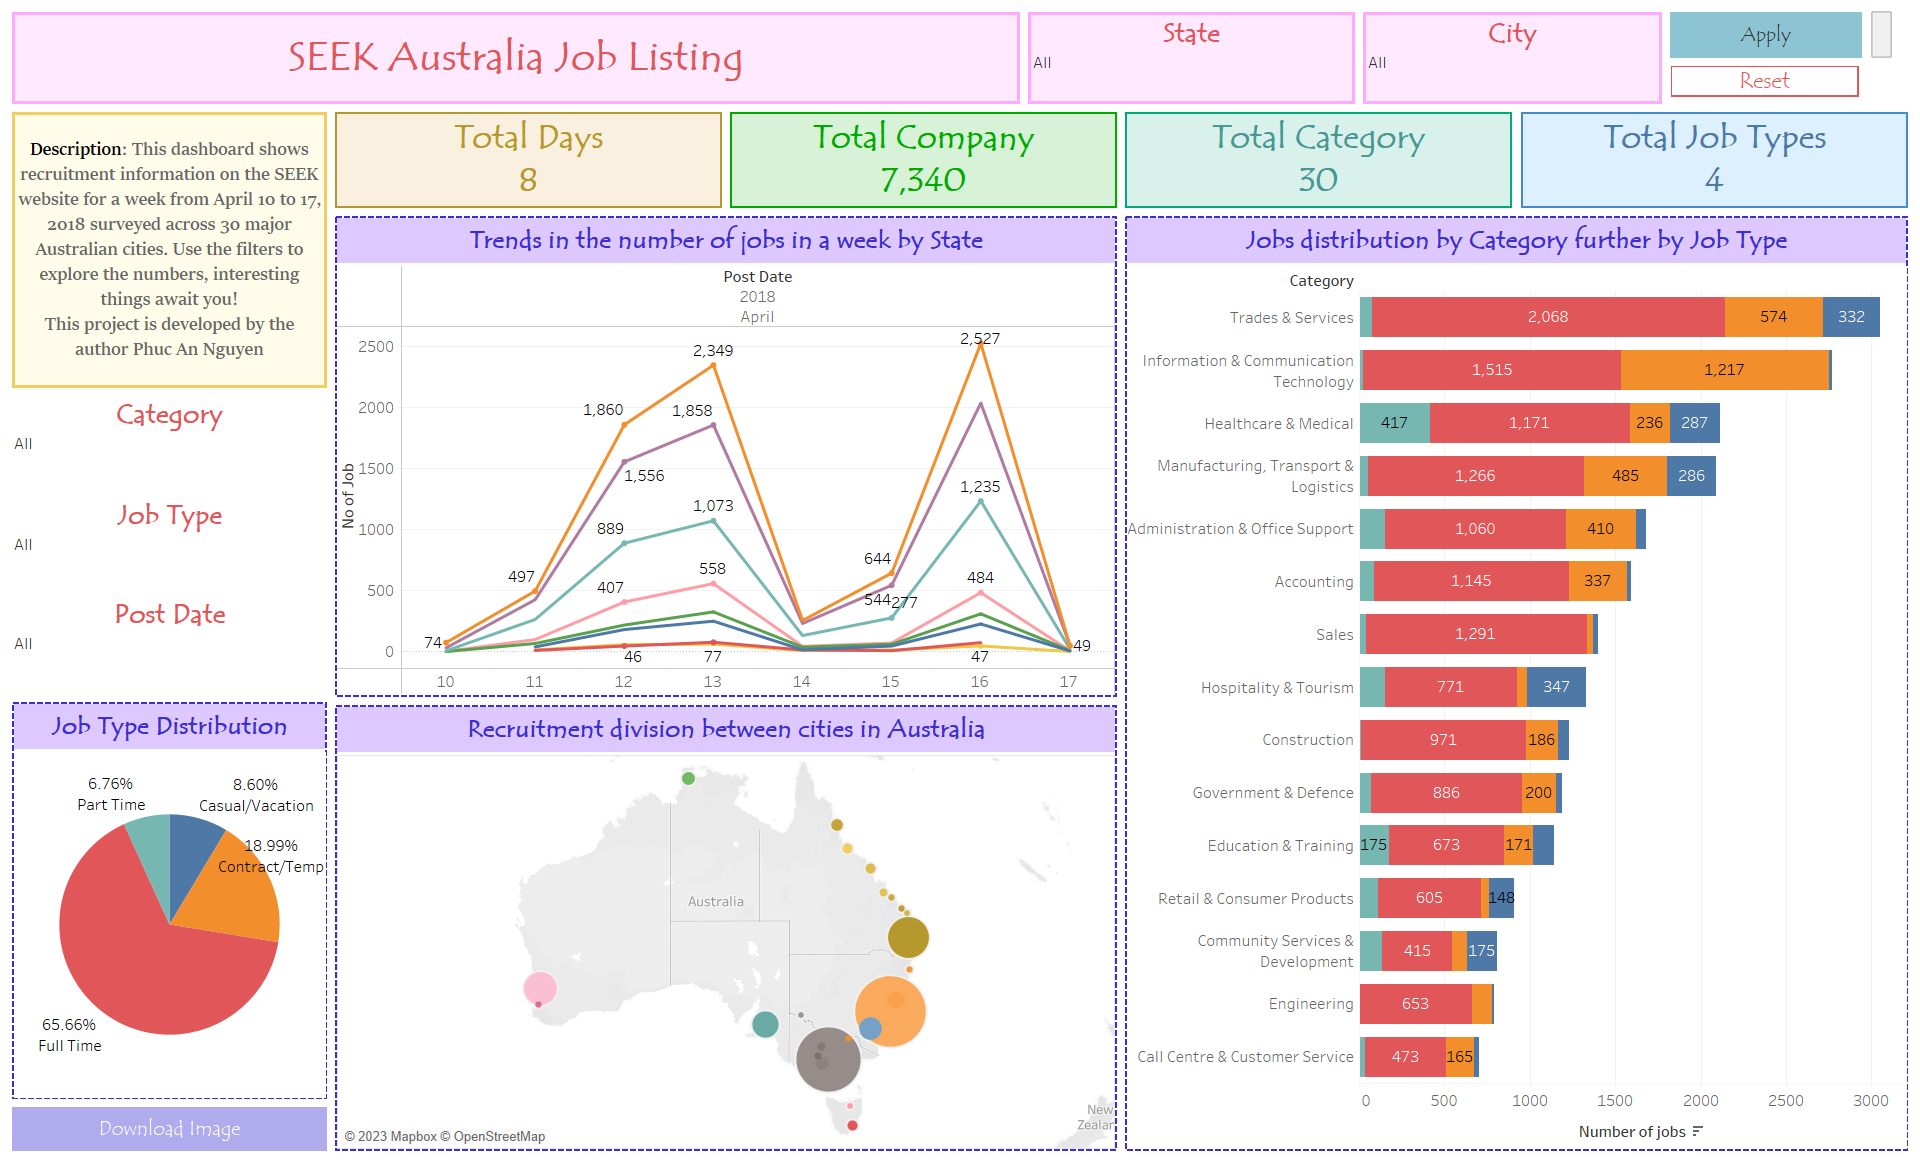

The dashboard page shown, as its layout file describes it:
{"tool":"tableau","page":{"name":"SEEK Dashboard v3","canvas":[1000,1000],"units":"permille","ordinal":0},"visuals":[{"type":"text","box":[4.8,8.2,528.8,86.6]},{"type":"filter","title":"Filter State Button","param":"[federated.0r6clld07ji2f117cddo414tgxxp].[none:state:nk]","box":[533.7,8.2,174.3,86.6]},{"type":"filter","title":"Filter State Button","param":"[federated.0r6clld07ji2f117cddo414tgxxp].[none:city:nk]","box":[708,8.2,159.6,86.6]},{"type":"worksheet","title":"Filter State Button","mark":"Polygon","rows":["Calculation_1911496635361103873"],"box":[867.6,8.2,127.6,45.8]},{"type":"worksheet","title":"Reset Button","mark":"Automatic","box":[867.6,54.1,127.6,40.8]},{"type":"text","box":[4.8,94.9,168.5,345]},{"type":"worksheet","title":"Pie Chart","mark":"Pie","box":[173.4,94.9,249,390.5]},{"type":"blank","box":[422.4,94.9,111.1,31.4]},{"type":"worksheet","title":"Stacked Bar Chart","mark":"Automatic","rows":["category"],"cols":["seek.csv_3BF47F59CC414110A04E427FBBB8EA2F"],"box":[533.5,94.9,461.7,390.5]},{"type":"filter","title":"Stacked Bar Chart","param":"[federated.0r6clld07ji2f117cddo414tgxxp].[none:job_type:nk]","box":[422.4,126.2,111.1,86.3]},{"type":"filter","title":"Stacked Bar Chart","param":"[federated.0r6clld07ji2f117cddo414tgxxp].[none:category:nk]","box":[422.4,212.5,111.1,90.9]},{"type":"filter","title":"Line chart","param":"[federated.0r6clld07ji2f117cddo414tgxxp].[dy:post_date:ok]","box":[422.4,303.3,111.1,90.9]},{"type":"blank","box":[422.4,394.3,111.1,91]},{"type":"worksheet","title":"Total Days","mark":"Automatic","box":[4.8,439.9,168.5,109.2]},{"type":"worksheet","title":"Line chart","mark":"Automatic","rows":["seek.csv_3BF47F59CC414110A04E427FBBB8EA2F"],"cols":["post_date","post_date","post_date"],"box":[173.4,485.3,413,506.4]},{"type":"worksheet","title":"Map","mark":"Automatic","rows":["lat"],"cols":["lng"],"box":[586.3,485.3,408.8,506.4]},{"type":"worksheet","title":"Total Company","mark":"Automatic","box":[4.8,549,168.5,106.1]},{"type":"worksheet","title":"Total Category","mark":"Automatic","box":[4.8,655.1,168.5,109.2]},{"type":"worksheet","title":"Total Job Type","mark":"Automatic","box":[4.8,764.3,168.5,110.2]},{"type":"dashboard-object","box":[4.8,874.5,168.5,53.6]}]}

Visuals, with their boxes on the dashboard's canvas, which has no fixed pixel size, in thousandths of its width and height (x1, y1, x2, y2). These are canvas units, not pixel positions in the 1920x1163 screenshot, which may show the page scaled, cropped or inside an application window:
text: pyautogui.locateOnScreen(5, 8, 534, 95)
"Filter State Button" filter: pyautogui.locateOnScreen(534, 8, 708, 95)
"Filter State Button" filter: pyautogui.locateOnScreen(708, 8, 868, 95)
"Filter State Button" worksheet (Polygon marks): pyautogui.locateOnScreen(868, 8, 995, 54)
"Reset Button" worksheet: pyautogui.locateOnScreen(868, 54, 995, 95)
text: pyautogui.locateOnScreen(5, 95, 173, 440)
"Pie Chart" worksheet (Pie marks): pyautogui.locateOnScreen(173, 95, 422, 485)
blank: pyautogui.locateOnScreen(422, 95, 534, 126)
"Stacked Bar Chart" worksheet: pyautogui.locateOnScreen(534, 95, 995, 485)
"Stacked Bar Chart" filter: pyautogui.locateOnScreen(422, 126, 534, 212)
"Stacked Bar Chart" filter: pyautogui.locateOnScreen(422, 212, 534, 303)
"Line chart" filter: pyautogui.locateOnScreen(422, 303, 534, 394)
blank: pyautogui.locateOnScreen(422, 394, 534, 485)
"Total Days" worksheet: pyautogui.locateOnScreen(5, 440, 173, 549)
"Line chart" worksheet: pyautogui.locateOnScreen(173, 485, 586, 992)
"Map" worksheet: pyautogui.locateOnScreen(586, 485, 995, 992)
"Total Company" worksheet: pyautogui.locateOnScreen(5, 549, 173, 655)
"Total Category" worksheet: pyautogui.locateOnScreen(5, 655, 173, 764)
"Total Job Type" worksheet: pyautogui.locateOnScreen(5, 764, 173, 874)
dashboard-object: pyautogui.locateOnScreen(5, 874, 173, 928)
